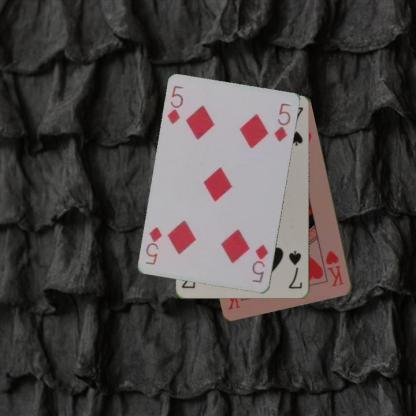5d: (249, 242, 270, 284), (165, 83, 185, 126)
7s: (286, 248, 303, 290)
Kh: (323, 248, 345, 288)
